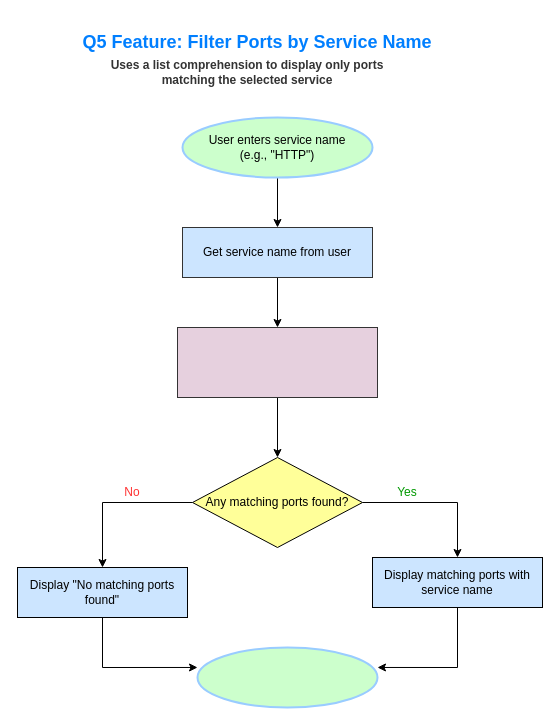
Some shapes in this 560 by 726 pixel diagram are drawn without their labels. The centre of each missing label's shape, as x and y in pixels:
End Feature: the point at 287,677
Filter scan_results list for matching service using list comprehension: the point at 277,362
